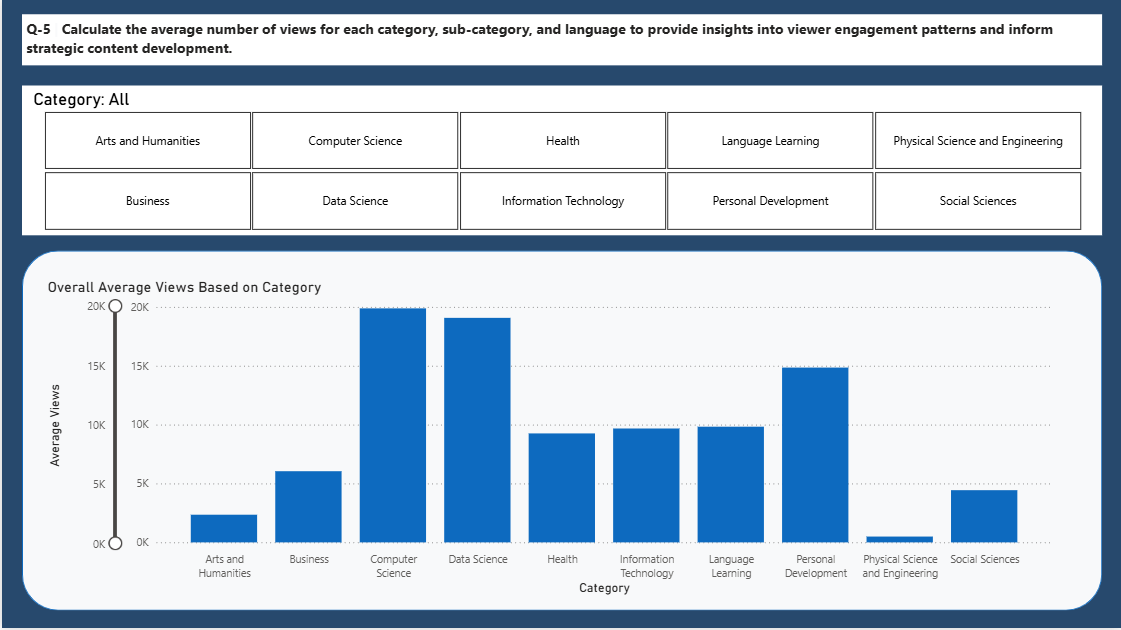

Layout of this report page (visuals, bound fields, positions):
{"tool":"powerbi","page":{"name":"Q-5","canvas":[1280,720],"ordinal":5},"visuals":[{"type":"slicer","fields":{"Values":["Online_Course.Category"]},"box":[22.9,100,1234.3,171.4],"z":0},{"type":"shape","box":[22.9,288.6,1234.3,411.4],"z":1000},{"type":"clusteredColumnChart","title":"Overall Average Views Based on Category","fields":{"Category":["Online_Course.Category","Online_Course.Language","Online_Course.Sub-Category"],"Y":["Online_Course.Average Views"]},"box":[47.1,320,1158.6,367.1],"z":2000},{"type":"textbox","box":[22.9,18.6,1234.3,58.6],"z":3000}]}

Visuals, with their boxes in screenshot pixels (x1, y1, x2, y2), scaled from the page's 1280x720 canvas onto the 1121x630 screenshot:
slicer - Online_Course.Category: x1=20 y1=88 x2=1101 y2=237
shape: x1=20 y1=253 x2=1101 y2=612
"Overall Average Views Based on Category" clusteredColumnChart: x1=41 y1=280 x2=1056 y2=601
textbox: x1=20 y1=16 x2=1101 y2=68
